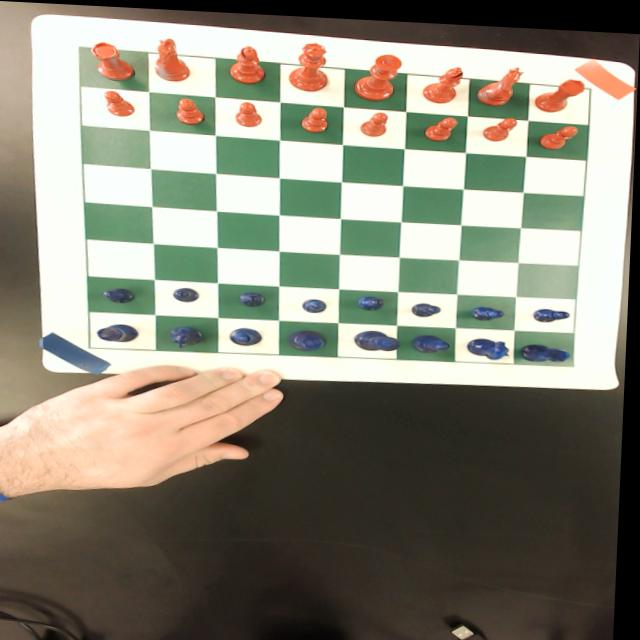B: (414, 327, 456, 349), (231, 323, 266, 343)
K: (357, 325, 405, 346)
N: (468, 331, 516, 355), (171, 322, 208, 346)
P: (534, 301, 575, 317), (472, 299, 508, 316), (105, 285, 139, 302), (414, 297, 445, 313), (174, 284, 205, 300), (359, 290, 388, 307), (241, 288, 269, 304), (303, 294, 330, 310)
Q: (291, 324, 332, 348)
R: (523, 336, 576, 357), (99, 321, 143, 341)
b: (423, 59, 464, 99), (228, 41, 267, 81)
k: (353, 48, 403, 97)
n: (477, 59, 525, 101), (153, 34, 193, 80)
p: (539, 118, 580, 143), (483, 110, 520, 137), (101, 88, 138, 115), (175, 94, 207, 123), (424, 110, 459, 136), (301, 102, 330, 129), (361, 107, 390, 132), (237, 98, 264, 124)
q: (289, 37, 331, 88)
r: (89, 39, 137, 81), (534, 71, 587, 107)
